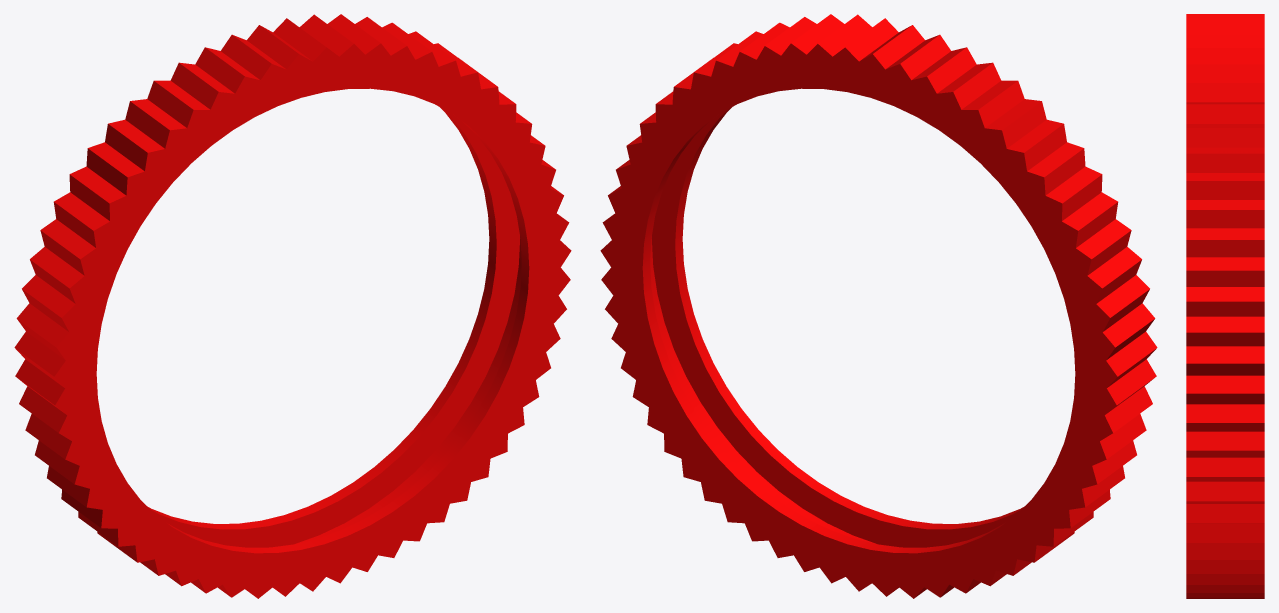
Rendered from tire.glb.
The picture shows the model from 3 angles, left to right: view 1: azimuth 30°, elevation 25°; view 2: azimuth 150°, elevation 25°; view 3: azimuth 270°, elevation 25°; orthographic projection. The views are drawn at different scales.
Bounding box in the file's own units: 0.0598 × 0.0598 × 0.008.
